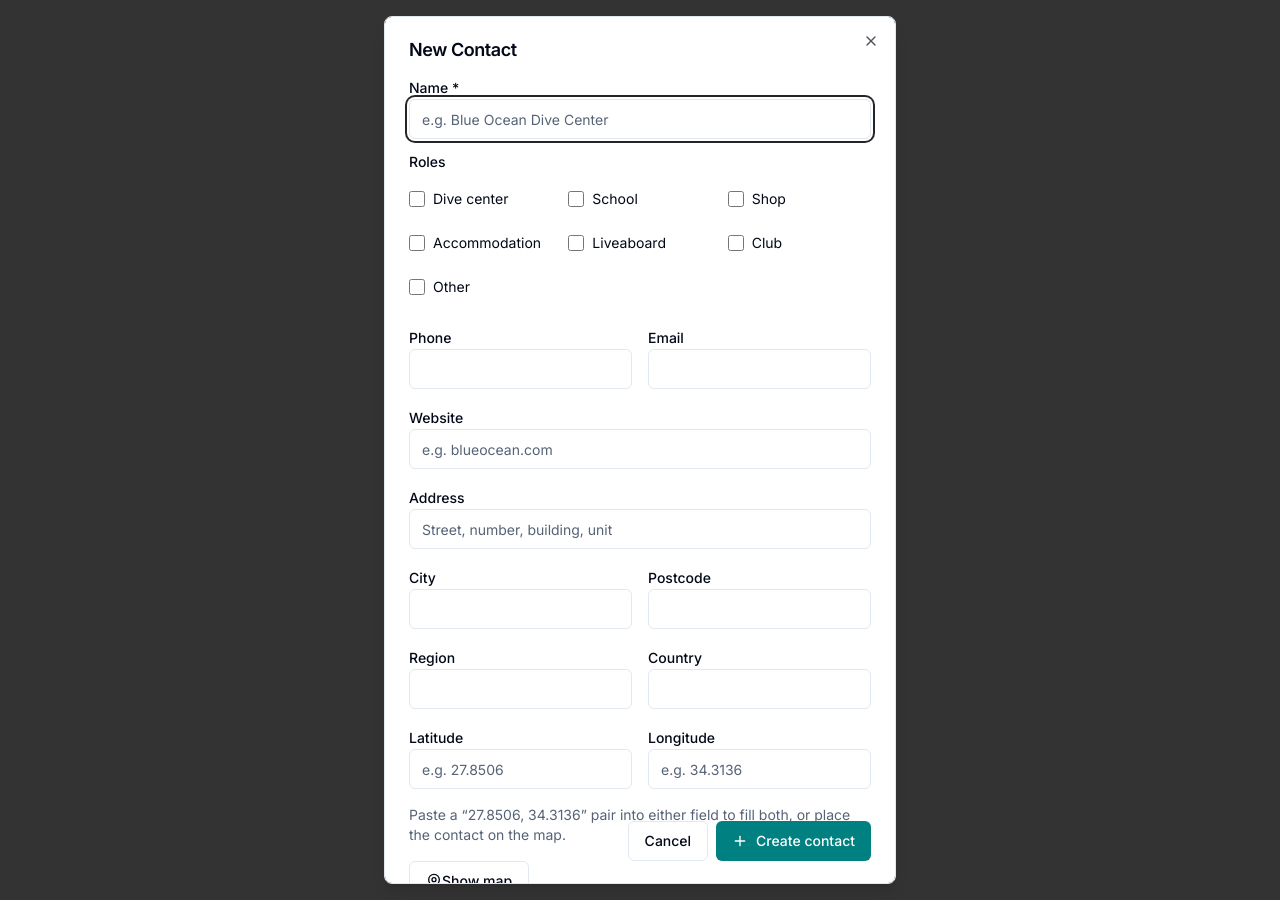
Test: ContactDialog's position › fills both inputs from a pair pasted into either
Click the field labelled "Longitude" at x=760, y=769, box [648,749,871,789]
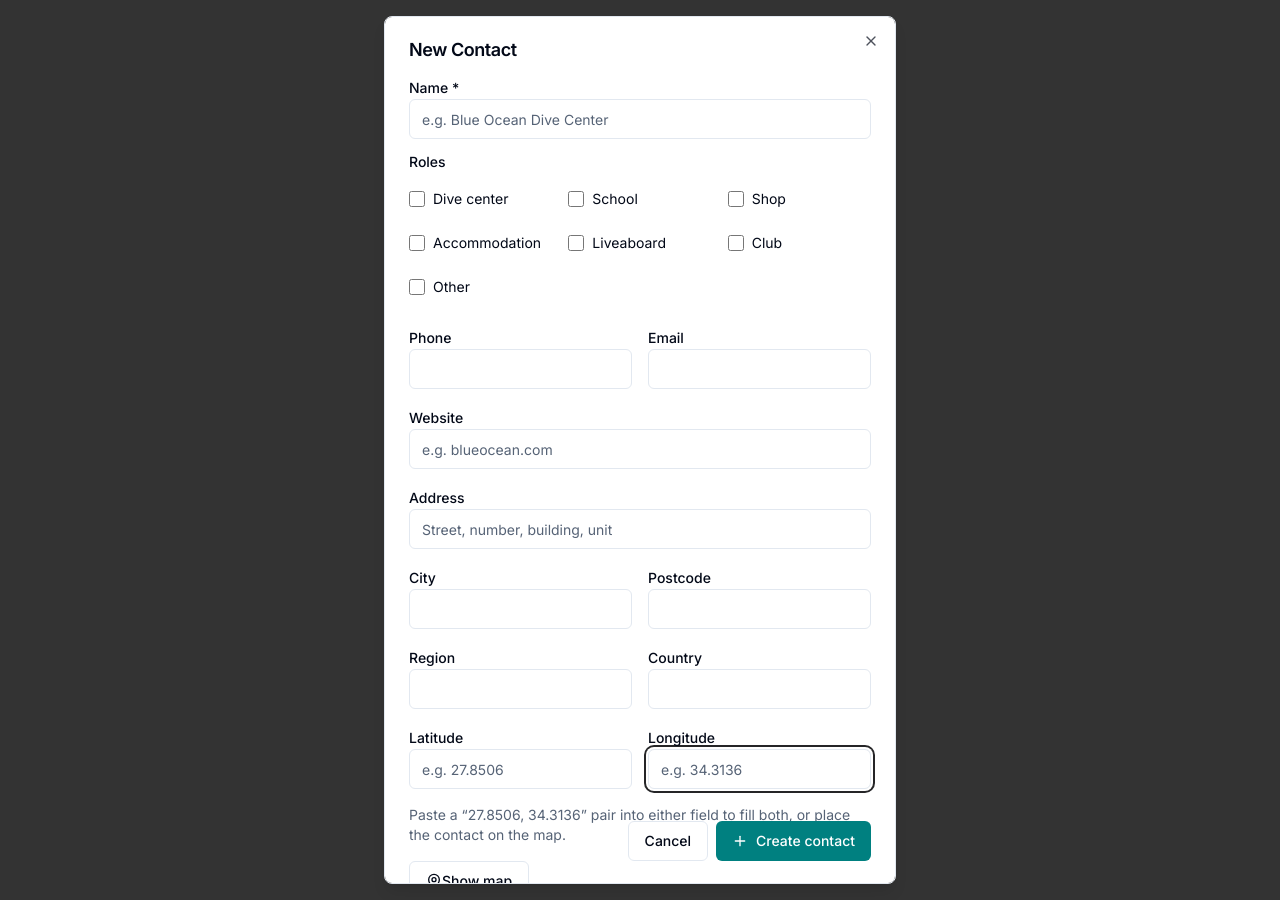
Type keys "27.8506, 34.3136"
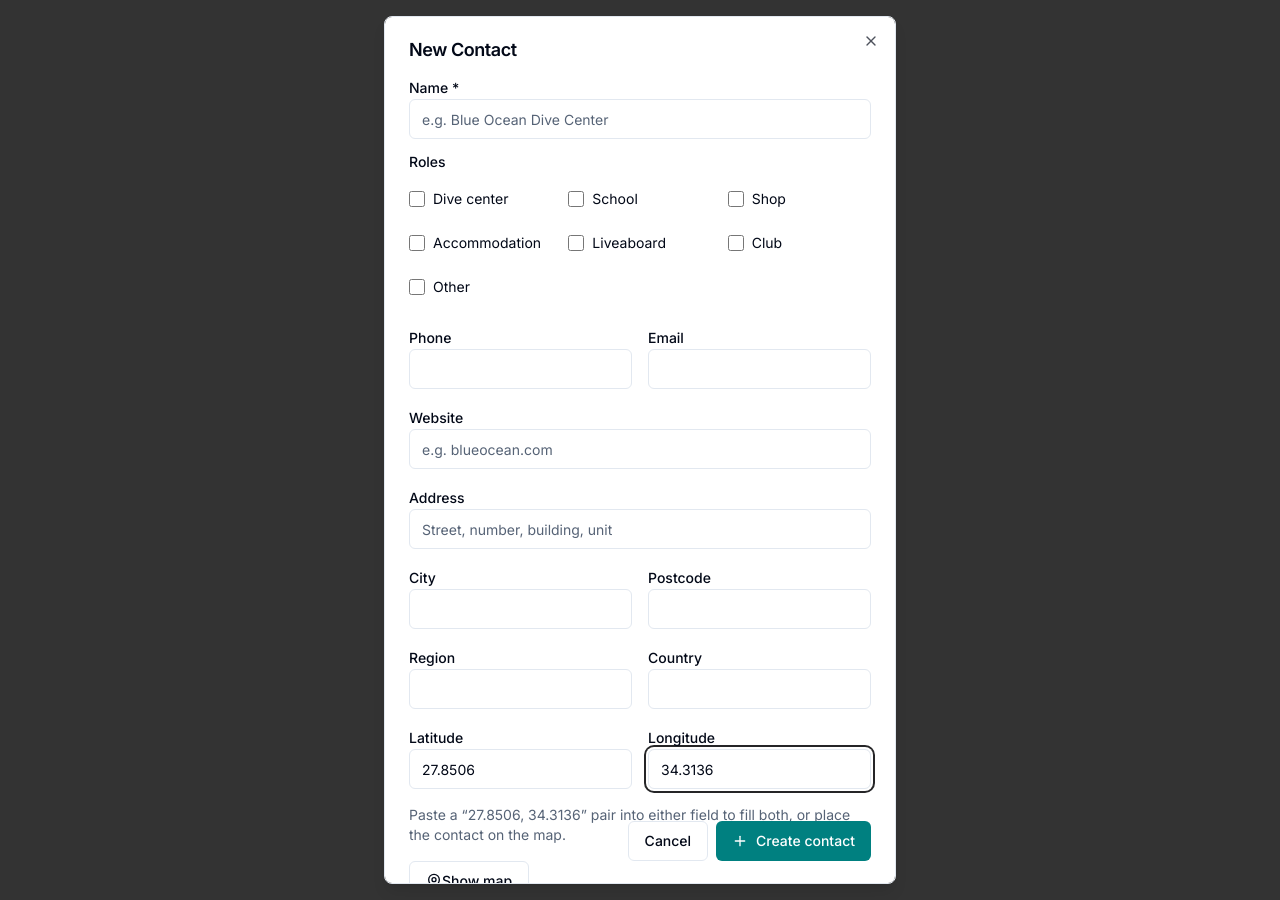
Check: the field labelled "Latitude" holds "27.8506", box [409,749,632,789]
Check: the field labelled "Longitude" holds "34.3136", box [648,749,871,789]
